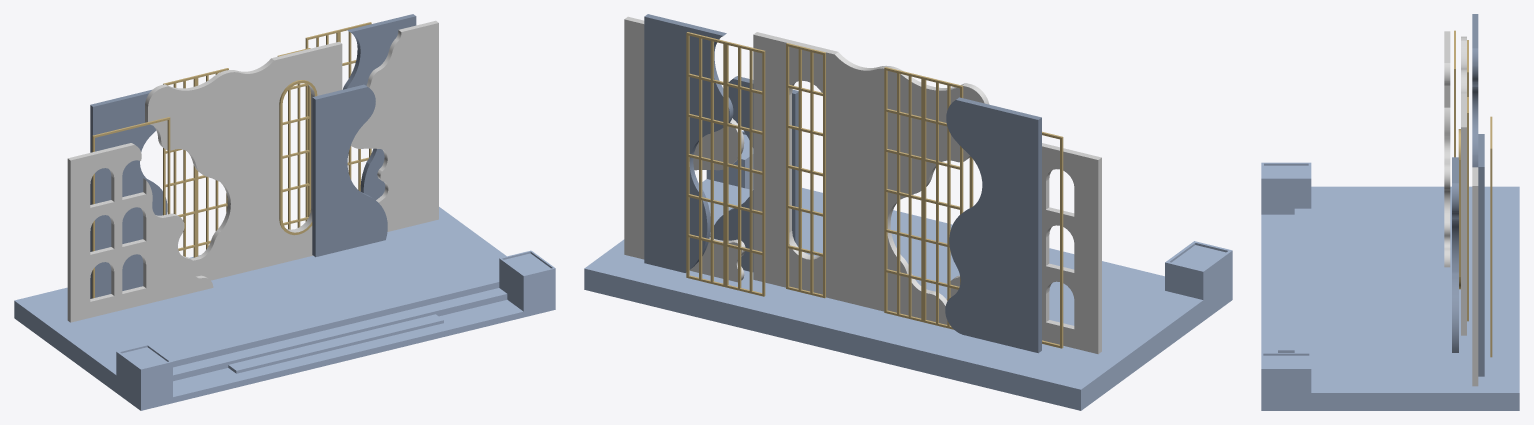
Rendered from backdrop_wedding.glb.
The picture shows the model from 3 angles, left to right: view 1: azimuth 30°, elevation 25°; view 2: azimuth 150°, elevation 25°; view 3: azimuth 270°, elevation 25°; orthographic projection. The views are drawn at different scales.
Parts seen in each view (by area): view 1: Group1, Group8, Group7, Group6, Mesh10_Niraj_Pant_0, Mesh11_Niraj_Pant_0, Mesh4_Niraj_Pant_0, Group14, Group3, Group4, Group13, Group10 (+1 smaller); view 2: Group1, Group8, Mesh11_Niraj_Pant_0, Mesh4_Niraj_Pant_0, Group7, Group6, Group10, Group4, Group9, Group14, Group3, Mesh10_Niraj_Pant_0 (+1 smaller); view 3: Group1, Group8, Mesh4_Niraj_Pant_0, Group7, Group6, Mesh10_Niraj_Pant_0, Mesh11_Niraj_Pant_0, Group9, Group14, Group13.
Boxes of the visible parts, x1=… form: Group1: x1=14, y1=207, x2=555, y2=410; Group8: x1=145, y1=41, x2=342, y2=280; Group7: x1=67, y1=143, x2=213, y2=322; Group6: x1=351, y1=20, x2=438, y2=231; Mesh10_Niraj_Pant_0: x1=312, y1=84, x2=387, y2=257; Mesh11_Niraj_Pant_0: x1=90, y1=90, x2=167, y2=298; Mesh4_Niraj_Pant_0: x1=343, y1=14, x2=416, y2=199; Group14: x1=277, y1=48, x2=310, y2=229; Group3: x1=163, y1=76, x2=196, y2=257; Group4: x1=196, y1=68, x2=228, y2=256; Group13: x1=92, y1=117, x2=170, y2=298; Group10: x1=305, y1=30, x2=338, y2=221; Group1: x1=584, y1=130, x2=1232, y2=410; Group8: x1=753, y1=32, x2=989, y2=324; Mesh11_Niraj_Pant_0: x1=945, y1=97, x2=1041, y2=353; Mesh4_Niraj_Pant_0: x1=644, y1=14, x2=733, y2=272; Group7: x1=946, y1=143, x2=1101, y2=354; Group6: x1=624, y1=16, x2=745, y2=282; Group10: x1=725, y1=41, x2=765, y2=296; Group4: x1=884, y1=67, x2=923, y2=321; Group9: x1=686, y1=32, x2=725, y2=286; Group14: x1=786, y1=43, x2=825, y2=298; Group3: x1=923, y1=76, x2=963, y2=329; Mesh10_Niraj_Pant_0: x1=710, y1=76, x2=798, y2=271; Group1: x1=1261, y1=162, x2=1519, y2=410; Group8: x1=1458, y1=36, x2=1466, y2=335; Mesh4_Niraj_Pant_0: x1=1478, y1=134, x2=1484, y2=376; Group7: x1=1444, y1=31, x2=1450, y2=267; Group6: x1=1472, y1=167, x2=1478, y2=386; Mesh10_Niraj_Pant_0: x1=1452, y1=157, x2=1458, y2=352; Mesh11_Niraj_Pant_0: x1=1472, y1=14, x2=1478, y2=167; Group9: x1=1490, y1=132, x2=1492, y2=357; Group14: x1=1467, y1=97, x2=1468, y2=321; Group13: x1=1454, y1=30, x2=1455, y2=157.
Bounding box in the file's own units: 7.35 × 3.78 × 3.89.
